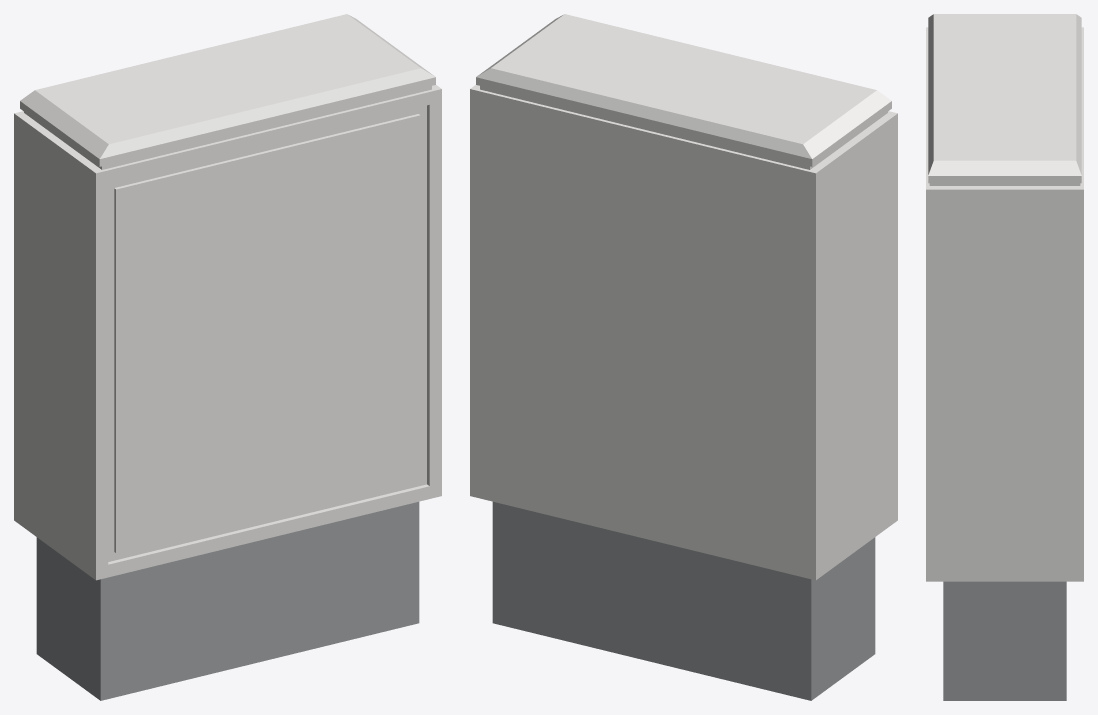
File: SM_powerbox_01.fbx
3 views of the same model, side by side, from view 1: azimuth 30°, elevation 25°; view 2: azimuth 150°, elevation 25°; view 3: azimuth 270°, elevation 25° (orthographic). The views are drawn at different scales.
Visible parts, largest first — view 1: Box230; view 2: Box230; view 3: Box230.
Boxes of the visible parts, left/top/right/bottom form: Box230: left=14, top=14, right=441, bottom=700; Box230: left=470, top=14, right=897, bottom=700; Box230: left=926, top=14, right=1083, bottom=700.
Size of the model in its own units: 37.83 by 15.53 by 58.47.
